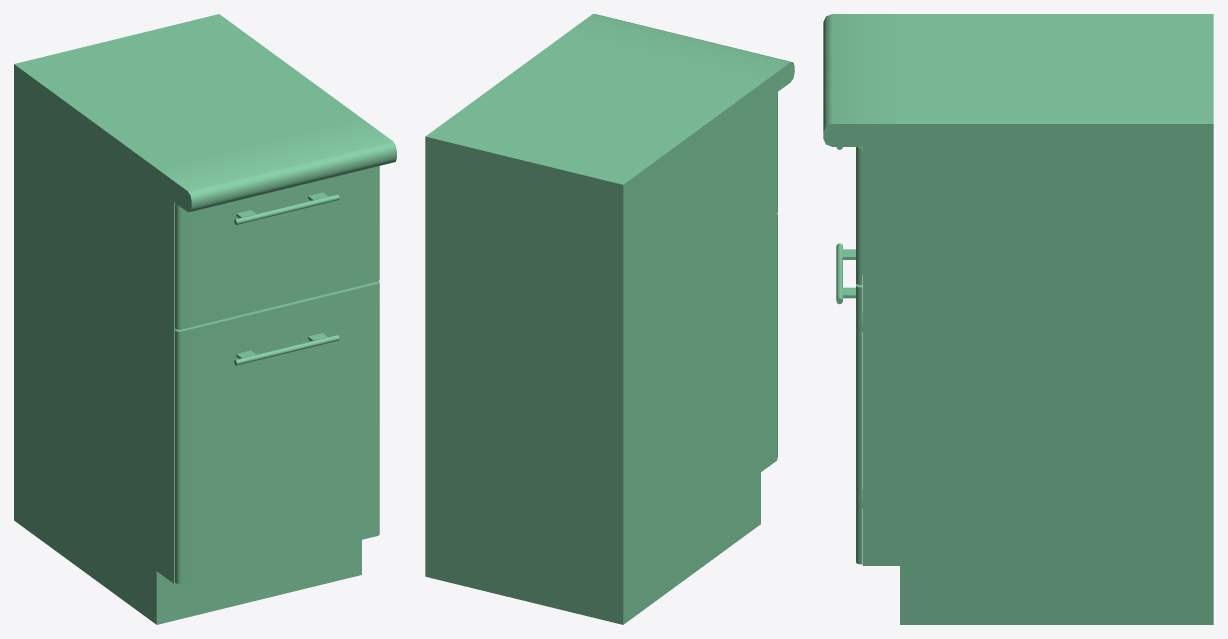
File: hospital_kitchen_module_3.fbx
3 views of the same model, side by side, from view 1: azimuth 30°, elevation 25°; view 2: azimuth 150°, elevation 25°; view 3: azimuth 270°, elevation 25° (orthographic). The views are drawn at different scales.
Parts seen in each view (by area): view 1: hospital_kitchen_module_3, hospital_kitchen_module_3_Door, hospital_kitchen_module_3_Box; view 2: hospital_kitchen_module_3; view 3: hospital_kitchen_module_3, hospital_kitchen_module_3_Door, hospital_kitchen_module_3_Box.
Boxes of the visible parts, bbox=[...] form: hospital_kitchen_module_3: bbox=[14, 14, 396, 624]; hospital_kitchen_module_3_Door: bbox=[175, 281, 379, 583]; hospital_kitchen_module_3_Box: bbox=[175, 166, 379, 329]; hospital_kitchen_module_3: bbox=[425, 14, 794, 624]; hospital_kitchen_module_3: bbox=[823, 14, 1213, 624]; hospital_kitchen_module_3_Door: bbox=[836, 243, 862, 564]; hospital_kitchen_module_3_Box: bbox=[836, 147, 862, 284].
Size of the model in its own units: 40 by 85 by 60.
